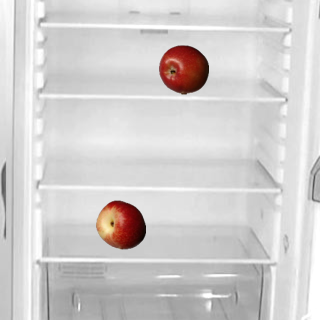Apple Braeburn: (158, 44, 208, 94)
Nectarine: (95, 199, 145, 249)
